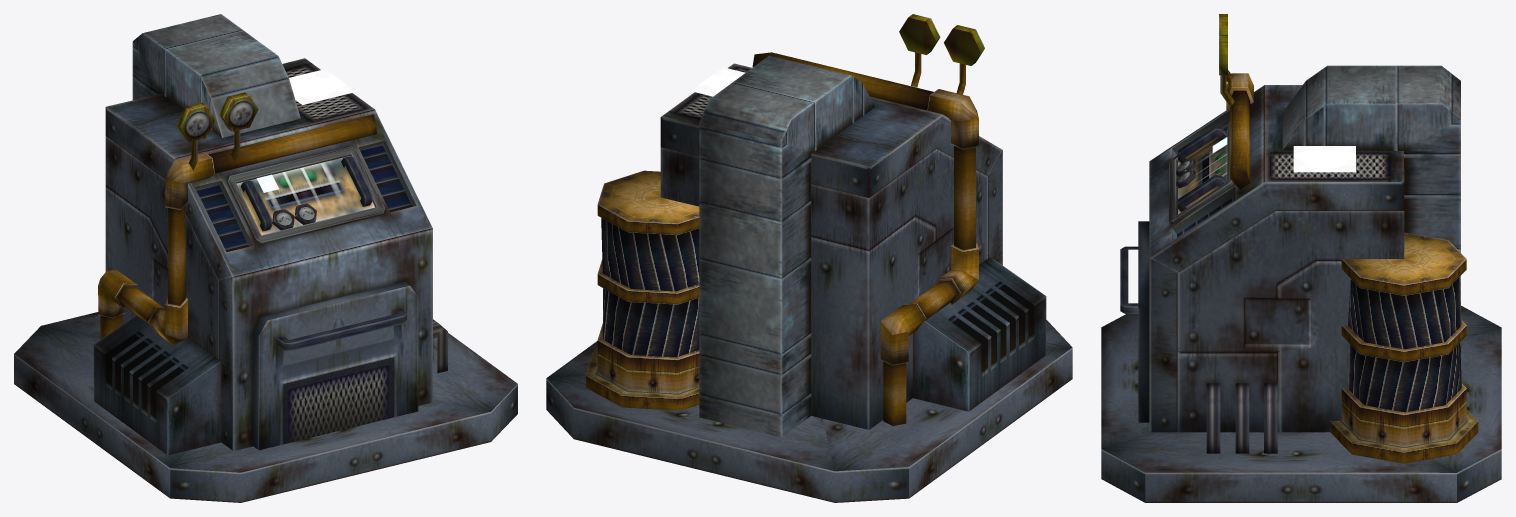
The model's file is a_tunnelmachine02.glb.
The picture shows the model from 3 angles, left to right: view 1: azimuth 30°, elevation 25°; view 2: azimuth 150°, elevation 25°; view 3: azimuth 270°, elevation 25°; orthographic projection. The views are drawn at different scales.
Visible parts, largest first — view 1: a_tunnelmachine02; view 2: a_tunnelmachine02; view 3: a_tunnelmachine02.
Boxes of the visible parts, x1,y1,x2,y2 form: a_tunnelmachine02: (14, 14, 517, 502); a_tunnelmachine02: (546, 14, 1072, 502); a_tunnelmachine02: (1101, 14, 1501, 502).
Size of the model in its own units: 1.81 by 1.73 by 1.81.
Materials: 5 (5 with a texture image).
